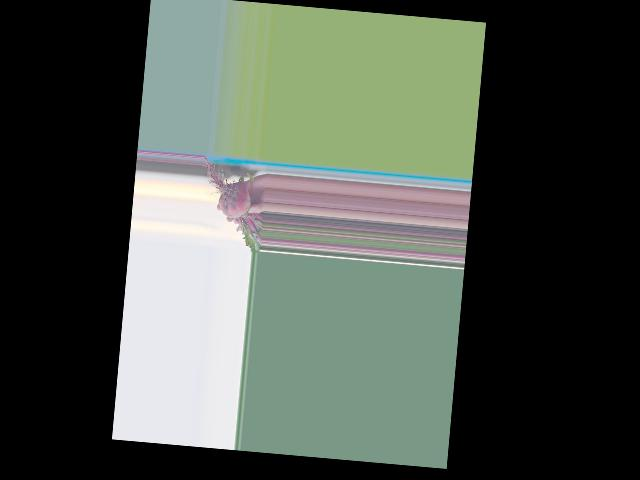beet: (196, 156, 267, 253)
